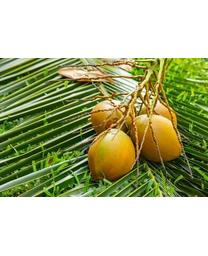coconut: (85, 127, 136, 182), (132, 115, 182, 164), (137, 98, 179, 131), (89, 102, 127, 131)
